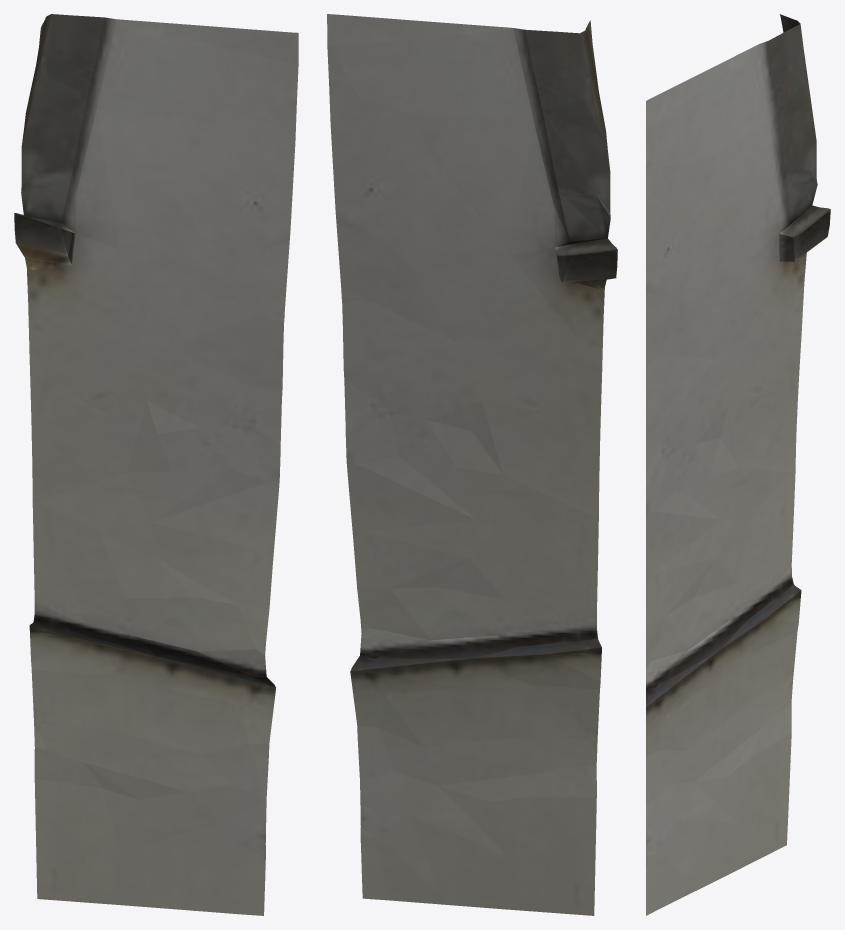
The picture shows the model from 3 angles, left to right: view 1: azimuth 30°, elevation 25°; view 2: azimuth 210°, elevation 25°; view 3: azimuth 270°, elevation 25°; orthographic projection. The views are drawn at different scales.
Bounding box in the file's own units: 0.7512 × 3.35 × 0.6746.
1 material, 1 textured.
